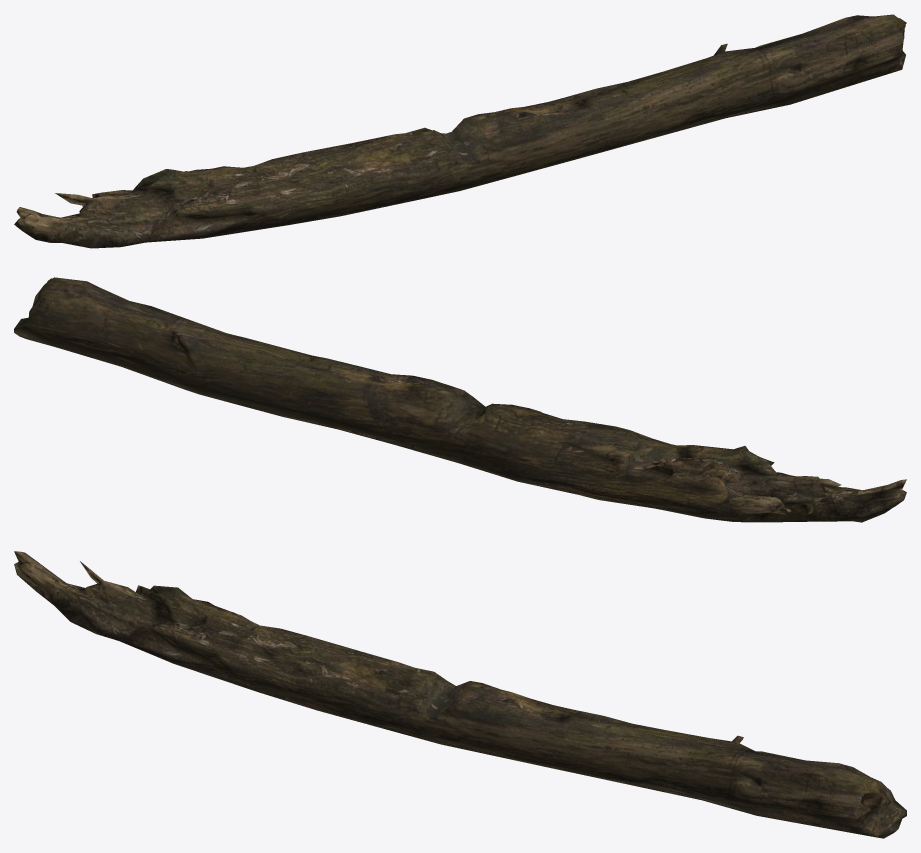
The model's file is dead_tree_trunk.glb.
3 renders of one model, top to bottom at view 1: azimuth 30°, elevation 25°; view 2: azimuth 150°, elevation 25°; view 3: azimuth 330°, elevation 25°, orthographic.
Visible parts, largest first — view 1: dead_tree_trunk; view 2: dead_tree_trunk; view 3: dead_tree_trunk.
Part boxes in pixels (left/top/right/bottom): dead_tree_trunk: left=14, top=14, right=906, bottom=248; dead_tree_trunk: left=14, top=277, right=906, bottom=522; dead_tree_trunk: left=14, top=551, right=906, bottom=838.
Bounding box in the file's own units: 3.04 × 0.287 × 0.2774.
Materials: 1 (1 with a texture image).
